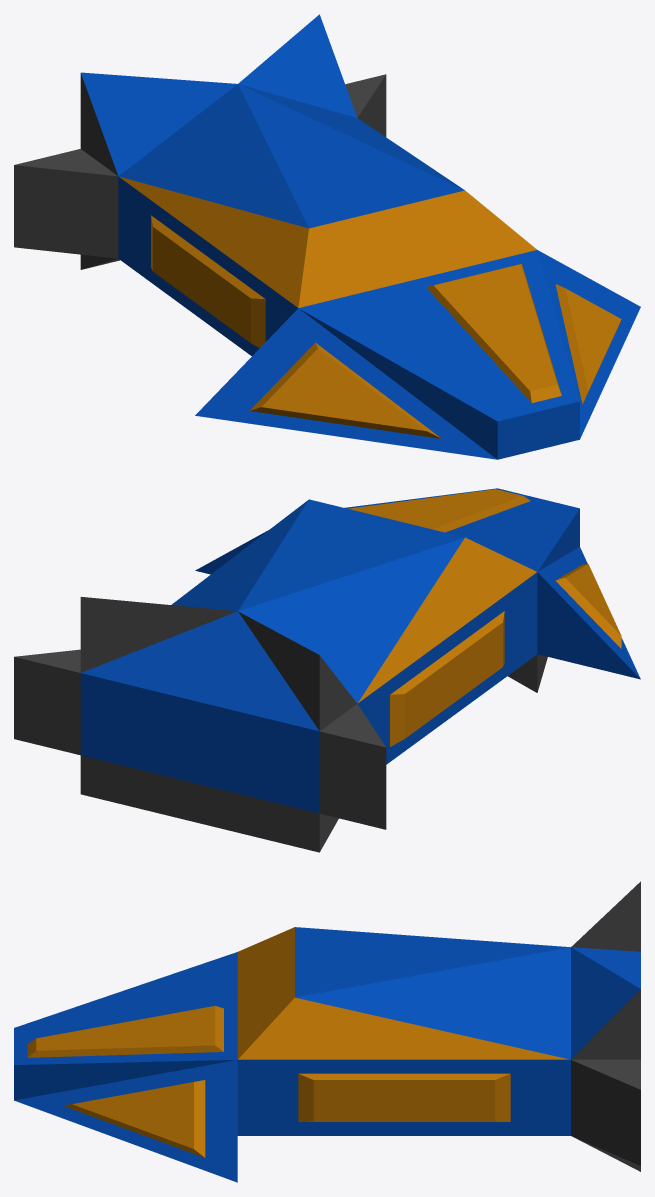
File: PlayerShip GLTH.glb
3 views of the same model, one above another, from view 1: azimuth 30°, elevation 25°; view 2: azimuth 150°, elevation 25°; view 3: azimuth 270°, elevation 25° (orthographic). The views are drawn at different scales.
Bounding box in the file's own units: 14.64 × 6.2 × 19.25.
